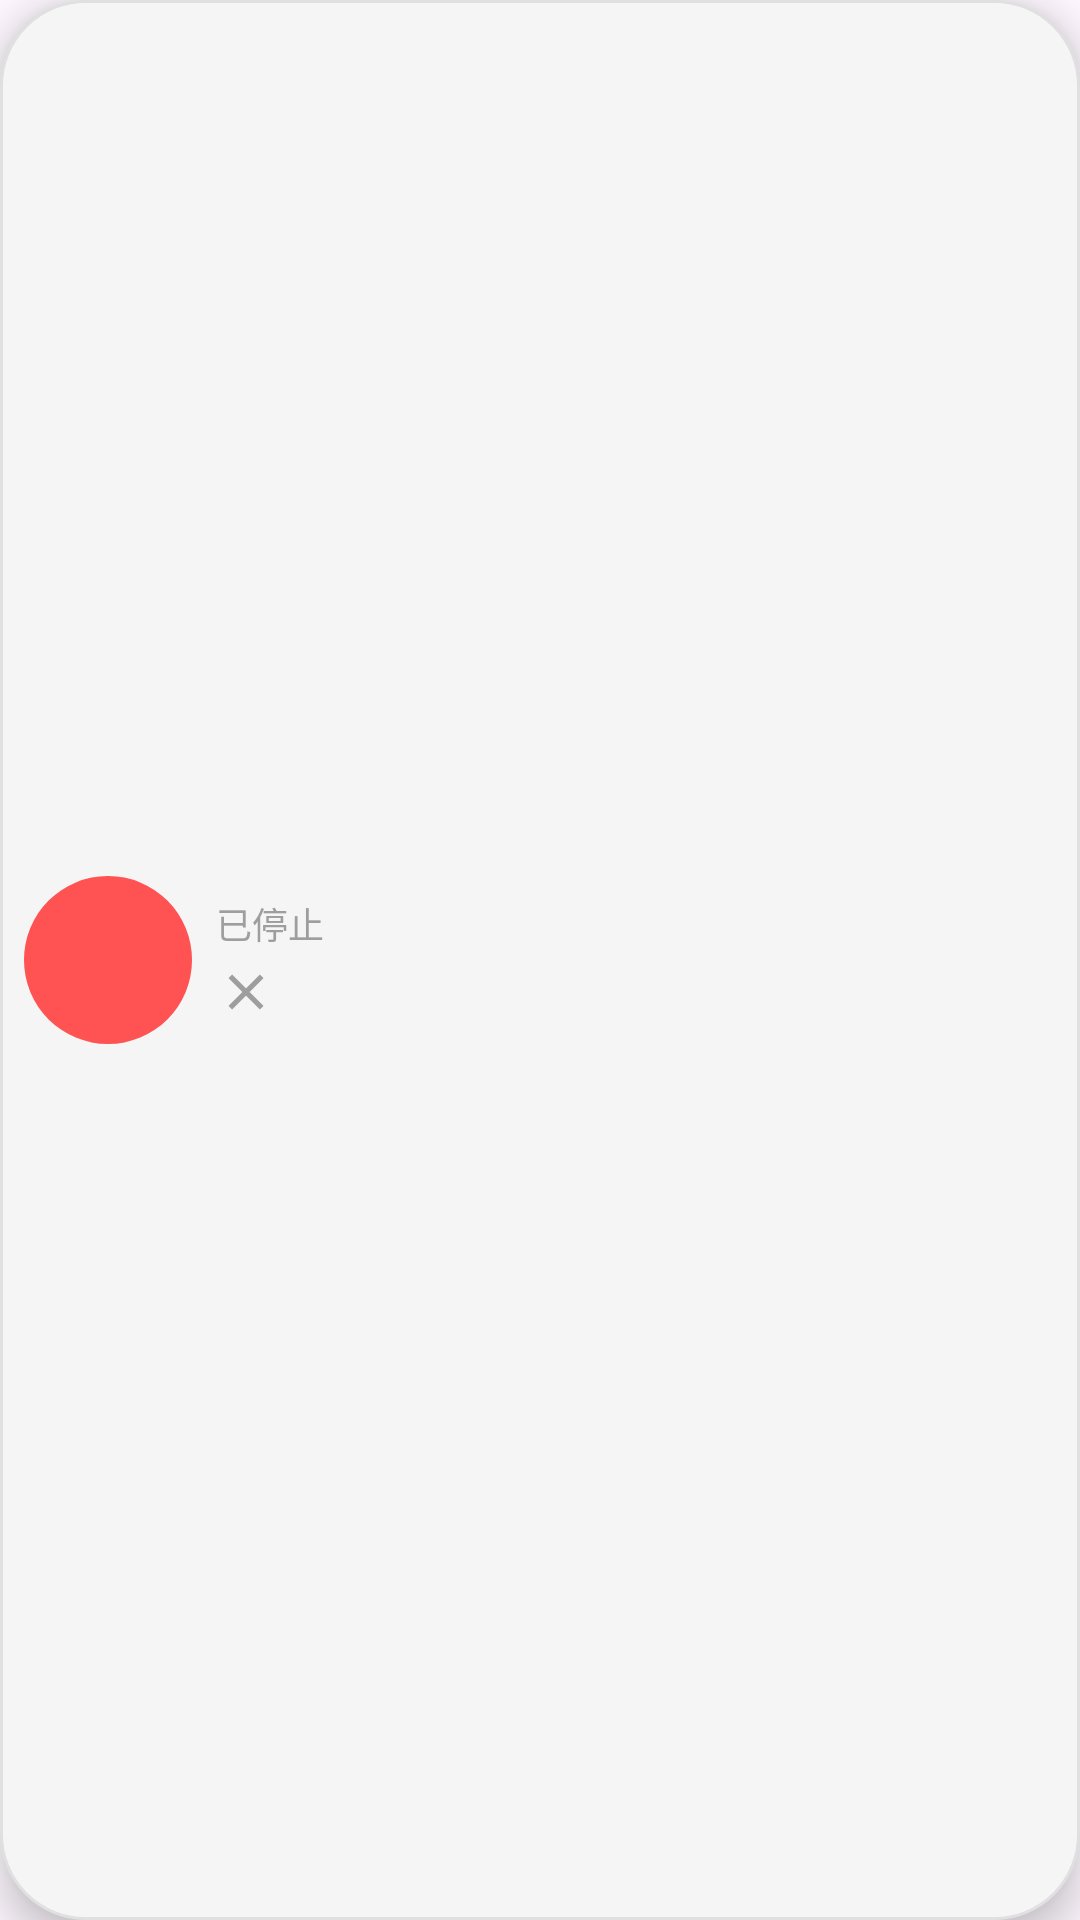

Locate icon controls on the screen. Image size 1080 x 1920, boxes as BBox(x1, y1, x2, y2).
Close: BBox(229, 975, 263, 1009)
